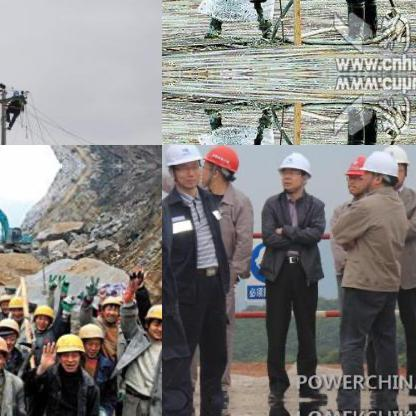Helmet: (197, 145, 239, 193), (274, 146, 314, 194), (354, 150, 394, 192), (162, 145, 202, 186), (342, 152, 375, 192), (54, 331, 84, 369), (384, 145, 408, 187), (96, 289, 122, 325), (78, 322, 104, 354), (30, 302, 54, 330), (0, 316, 22, 345), (144, 301, 161, 337), (6, 294, 26, 318), (0, 331, 9, 374)
